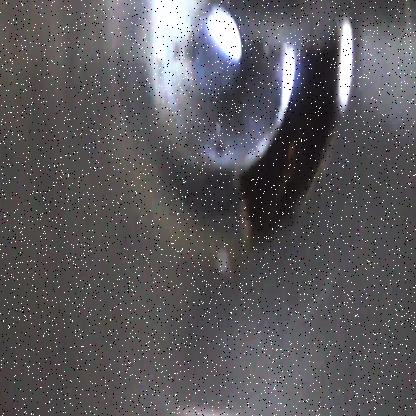Crack2: (239, 37, 353, 250)
